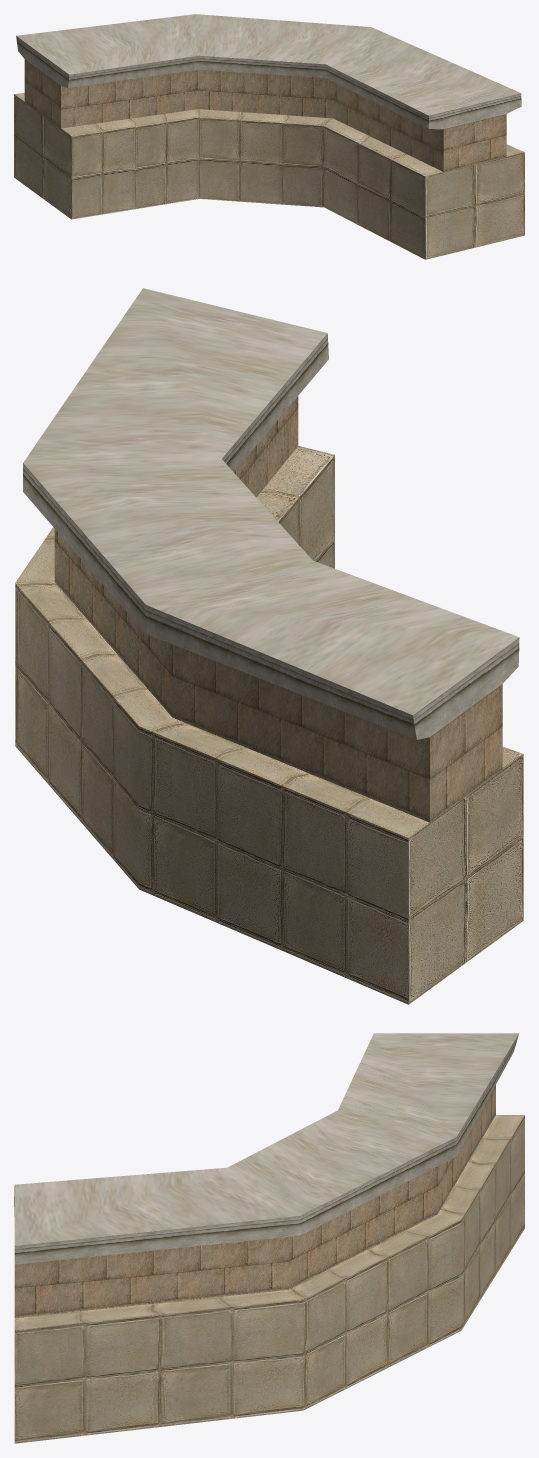
File: thm_nboo_imprv_short_curved_wall_small_s01_l1.fbx
The picture shows the model from 3 angles, top to bottom: view 1: azimuth 30°, elevation 25°; view 2: azimuth 150°, elevation 25°; view 3: azimuth 270°, elevation 25°; orthographic projection. The views are drawn at different scales.
Parts seen in each view (by area): view 1: mesh_node; view 2: mesh_node; view 3: mesh_node.
Part boxes in pixels (left/top/right/bottom): mesh_node: left=14, top=14, right=524, bottom=259; mesh_node: left=15, top=288, right=523, bottom=1004; mesh_node: left=14, top=1033, right=524, bottom=1443.
Size of the model in its own units: 4.73 by 2 by 4.73.
